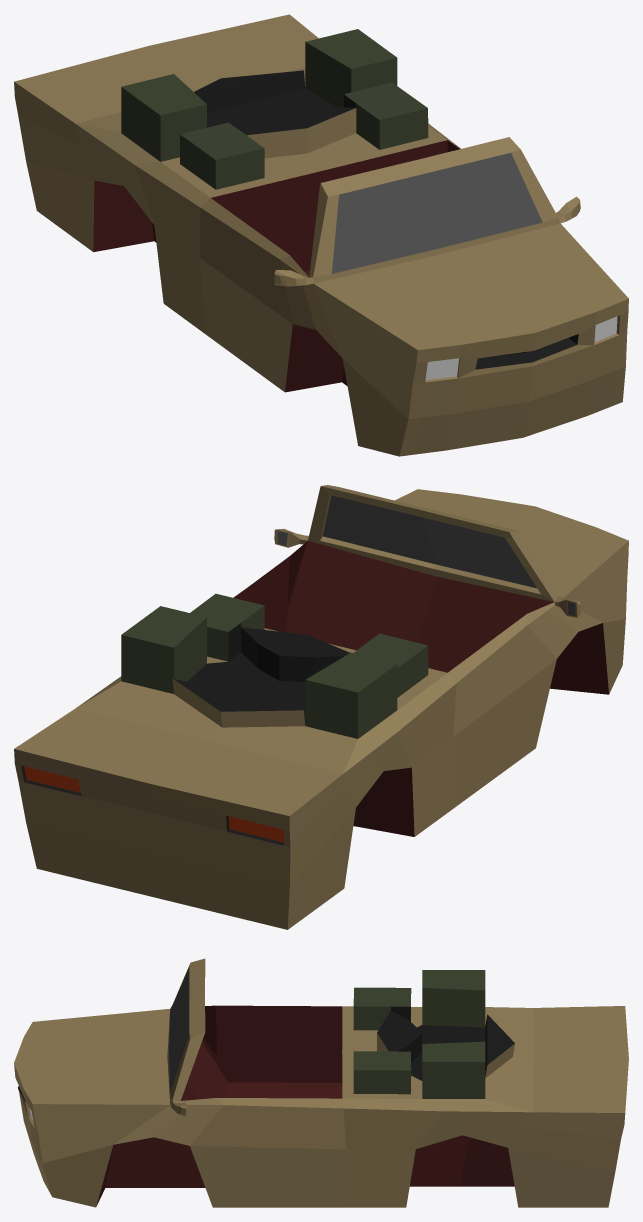
File: Low Poly Jeep.fbx
The picture shows the model from 3 angles, top to bottom: view 1: azimuth 30°, elevation 25°; view 2: azimuth 150°, elevation 25°; view 3: azimuth 270°, elevation 25°; orthographic projection. The views are drawn at different scales.
Parts seen in each view (by area): view 1: Jeep; view 2: Jeep; view 3: Jeep.
Boxes of the visible parts, x1=… form: Jeep: x1=14, y1=14, x2=628, y2=456; Jeep: x1=14, y1=485, x2=628, y2=929; Jeep: x1=14, y1=958, x2=628, y2=1207.
Bounding box in the file's own units: 2.61 × 1.7 × 5.7.
